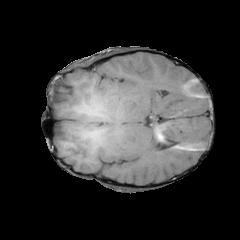glioma: (70, 79, 129, 157)
